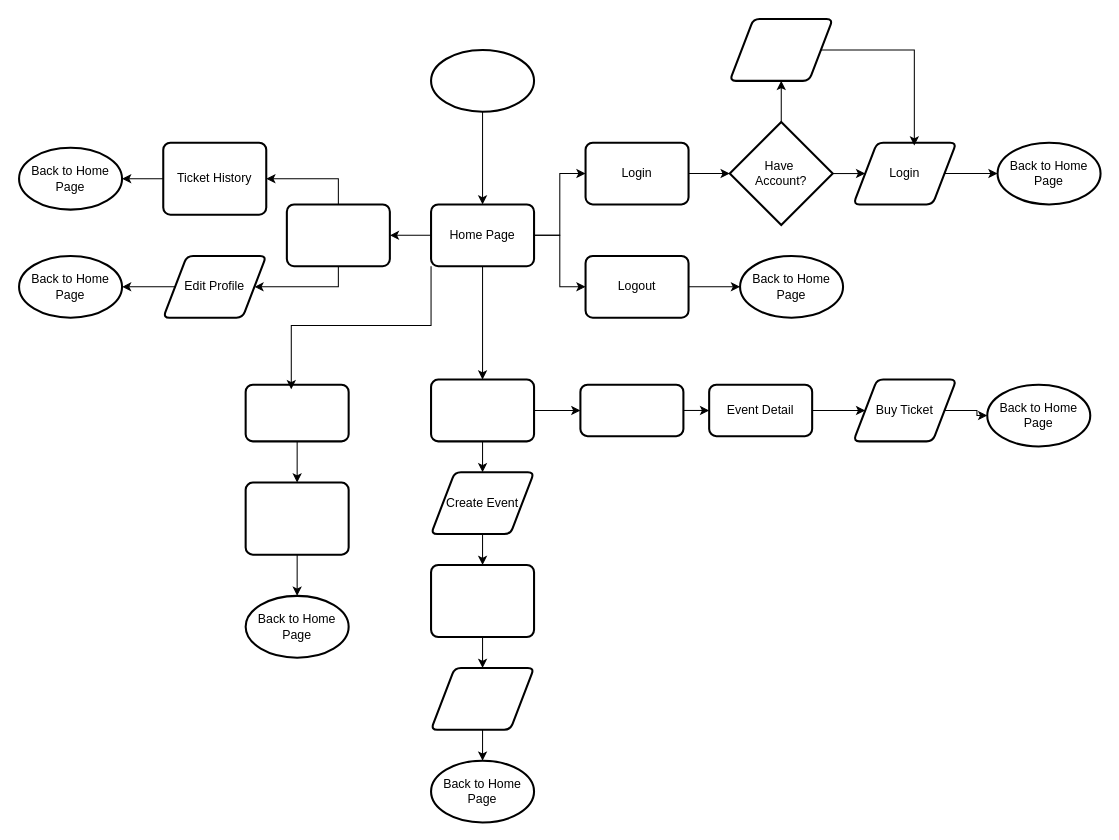
Some shapes in this 1119 by 840 pixel diagram are drawn without their labels. Each missing label, with the centre of its shape:
"Event" belongs at point 482,410.
"Event Available" belongs at point 631,410.
"Locations" belongs at point 482,600.
"Publish Event" belongs at point 482,698.
"Register" belongs at point 780,49.
"See Profile" belongs at point 337,235.
"Start" belongs at point 482,80.
"Venue" belongs at point 296,412.
"Venue List" belongs at point 296,518.
